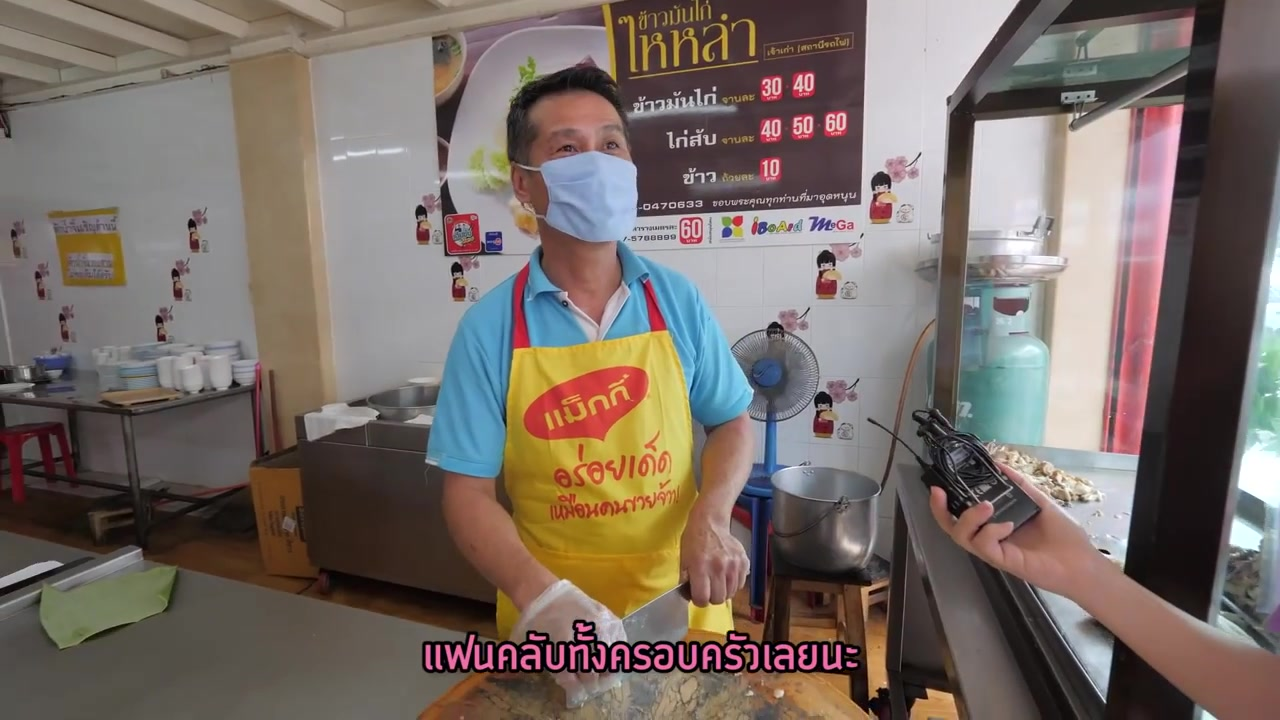text-label: (422, 620, 865, 674)
